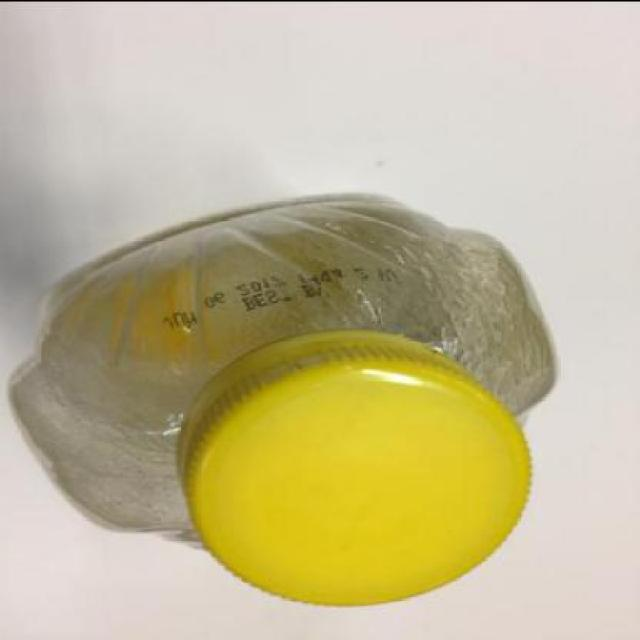PLASTIC: (10, 195, 554, 604), (179, 331, 529, 604)
